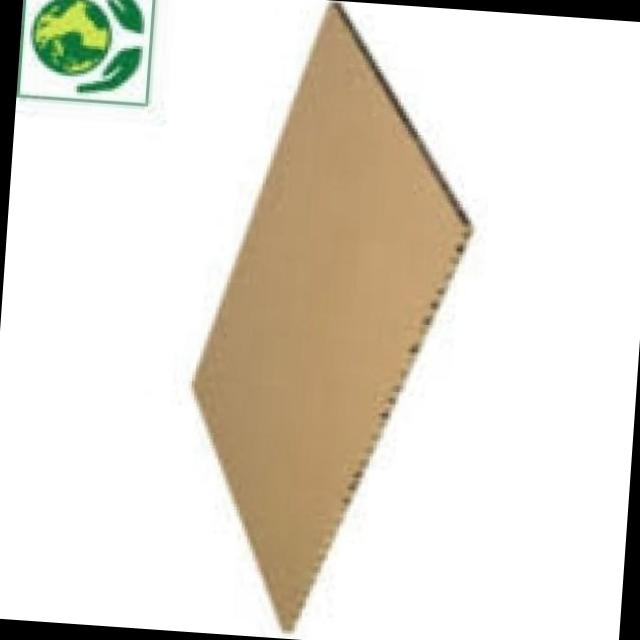cardboard paper: (191, 2, 467, 628)
